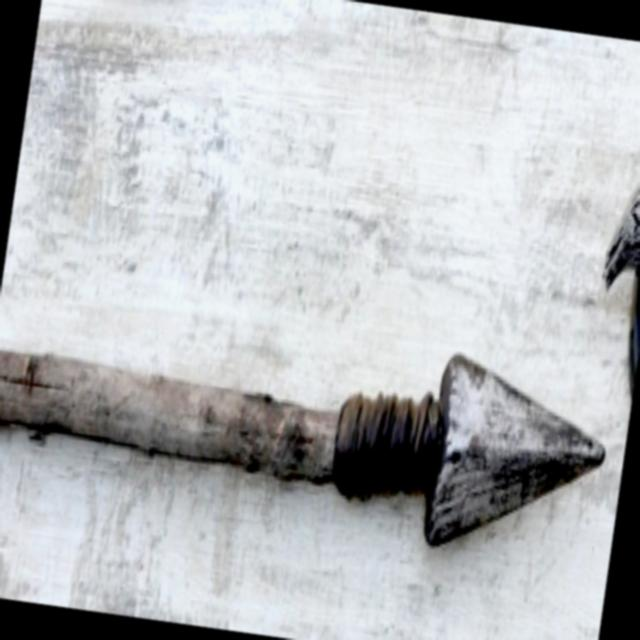spear: (0, 239, 636, 614)
